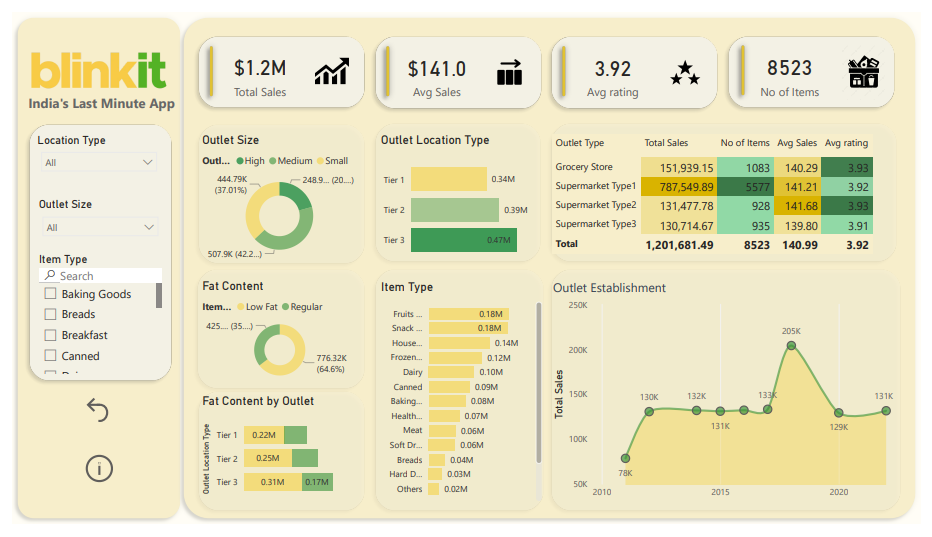

Layout of this report page (visuals, bound fields, positions):
{"tool":"powerbi","page":{"name":"Page 2","canvas":[1280,720],"ordinal":0},"visuals":[{"type":"shape","box":[0,0,245.4,720.1],"z":0},{"type":"shape","box":[234.2,0,1045.7,720.1],"z":1000},{"type":"image","box":[17.6,20.8,210.1,121.9],"z":2000},{"type":"shape","box":[16.3,150.3,215.6,375.7],"z":3000},{"type":"shape","box":[255,25.7,248.6,117.1],"z":4000,"group":"g1"},{"type":"shape","box":[1000.8,25.7,248.6,117.1],"z":4000,"group":"g4"},{"type":"shape","box":[503.6,27.3,248.6,117.1],"z":4000,"group":"g2"},{"type":"shape","box":[752.2,27.3,248.6,117.1],"z":4000,"group":"g3"},{"type":"shape","box":[752.2,354.4,506.8,354.4],"z":4000},{"type":"shape","box":[253.4,354.4,250.2,182.8],"z":5000},{"type":"shape","box":[255,526,248.6,182.8],"z":6000},{"type":"shape","box":[503.6,354.4,253.4,354.4],"z":7000},{"type":"shape","box":[752.2,149.2,502,210.1],"z":8000},{"type":"shape","box":[255,150.8,248.6,210.1],"z":9000},{"type":"shape","box":[503.6,149.2,248.6,210.1],"z":10000},{"type":"group","id":"g1","title":"Group 1","box":[255,25.7,248.6,117.1],"z":11000},{"type":"group","id":"g2","title":"Group 1","box":[503.6,27.3,248.6,117.1],"z":12000},{"type":"group","id":"g3","title":"Group 1","box":[752.2,27.3,248.6,117.1],"z":13000},{"type":"group","id":"g4","title":"Group 1","box":[1000.8,25.7,248.6,117.1],"z":14000},{"type":"shape","box":[255,40.1,51.3,86.6],"z":15000},{"type":"image","box":[1169.6,45.5,59.3,77],"z":15000,"group":"g4"},{"type":"image","box":[423.4,59.4,54.5,46.5],"z":15000,"group":"g1"},{"type":"image","box":[672,61,54.5,46.5],"z":15000,"group":"g2"},{"type":"image","box":[920.6,61,54.5,46.5],"z":15000,"group":"g3"},{"type":"shape","box":[503.6,40.1,51.3,86.6],"z":16000},{"type":"shape","box":[752.2,40.1,51.3,86.6],"z":17000},{"type":"shape","box":[1004,38.5,51.3,86.6],"z":18000},{"type":"actionButton","box":[97.8,617.5,49.7,49.7],"z":19000},{"type":"actionButton","box":[97.8,537.3,51.3,44.9],"z":20000},{"type":"card","fields":{"Values":["BlinkIT Grocery Data.Total Sales"]},"box":[275.8,44.9,147.5,83.4],"z":21000,"group":"g1"},{"type":"card","fields":{"Values":["BlinkIT Grocery Data.No of Items"]},"box":[1021.6,44.9,147.5,83.4],"z":21000,"group":"g4"},{"type":"card","fields":{"Values":["BlinkIT Grocery Data.Avg Sales"]},"box":[524.4,46.5,147.5,83.4],"z":21000,"group":"g2"},{"type":"card","fields":{"Values":["BlinkIT Grocery Data.Avg rating"]},"box":[773,46.5,147.5,83.4],"z":21000,"group":"g3"},{"type":"slicer","title":"Location Type","fields":{"Values":["BlinkIT Grocery Data.Outlet Location Type"]},"box":[31,169.9,183,62.1],"z":21000},{"type":"slicer","title":"Outlet Size","fields":{"Values":["BlinkIT Grocery Data.Outlet Size"]},"box":[32.7,261.4,183,68.6],"z":22000},{"type":"slicer","title":"Item Type","fields":{"Values":["BlinkIT Grocery Data.Item Type"]},"box":[32.7,338.1,183,174.8],"z":23000},{"type":"textbox","box":[18.1,110.4,220.8,38.1],"z":24000},{"type":"areaChart","title":"Outlet Establishment","fields":{"Category":["BlinkIT Grocery Data.Outlet Establishment Year"],"Y":["BlinkIT Grocery Data.Total Sales"]},"box":[756.9,375.4,491.9,317.2],"z":25000},{"type":"donutChart","title":"Fat Content","fields":{"Category":["BlinkIT Grocery Data.Fat Content Clean"],"Y":["BlinkIT Grocery Data.Total Sales"]},"box":[263,375.3,227.7,150.8],"z":26000},{"type":"barChart","title":"Fat Content by Outlet","fields":{"Category":["BlinkIT Grocery Data.Outlet Location Type"],"Y":["BlinkIT Grocery Data.Total Sales"],"Series":["BlinkIT Grocery Data.Fat Content Clean"]},"box":[263,537.4,227.1,155.2],"z":27000},{"type":"clusteredBarChart","title":"Item Type","fields":{"Category":["BlinkIT Grocery Data.Item Type"],"Y":["BlinkIT Grocery Data.Total Sales"]},"box":[514.6,375.7,236.9,316.9],"z":28000},{"type":"donutChart","title":"Outlet Size","fields":{"Category":["BlinkIT Grocery Data.Outlet Size"],"Y":["BlinkIT Grocery Data.Total Sales"]},"box":[263,169.9,227.1,184.6],"z":29000},{"type":"clusteredBarChart","title":"Outlet Location Type","fields":{"Category":["BlinkIT Grocery Data.Outlet Location Type"],"Y":["BlinkIT Grocery Data.Total Sales"]},"box":[514.6,169.9,241.8,191.1],"z":30000},{"type":"pivotTable","fields":{"Rows":["BlinkIT Grocery Data.Outlet Type"],"Values":["BlinkIT Grocery Data.Total Sales","BlinkIT Grocery Data.No of Items","BlinkIT Grocery Data.Avg Sales","BlinkIT Grocery Data.Avg rating"]},"box":[756.3,166.6,472.1,187.9],"z":31000}]}

Visuals, with their boxes in screenshot pixels (x1, y1, x2, y2), scaled from the page's 1280x720 canvas onto the 932x537 screenshot:
shape: Rect(0, 0, 179, 536)
shape: Rect(171, 0, 931, 536)
image: Rect(13, 16, 166, 106)
shape: Rect(12, 112, 169, 392)
shape: Rect(186, 19, 367, 107)
shape: Rect(729, 19, 910, 107)
shape: Rect(367, 20, 548, 108)
shape: Rect(548, 20, 729, 108)
shape: Rect(548, 264, 917, 529)
shape: Rect(185, 264, 367, 401)
shape: Rect(186, 392, 367, 529)
shape: Rect(367, 264, 551, 529)
shape: Rect(548, 111, 913, 268)
shape: Rect(186, 112, 367, 269)
shape: Rect(367, 111, 548, 268)
"Group 1" group: Rect(186, 19, 367, 107)
"Group 1" group: Rect(367, 20, 548, 108)
"Group 1" group: Rect(548, 20, 729, 108)
"Group 1" group: Rect(729, 19, 910, 107)
shape: Rect(186, 30, 223, 94)
image: Rect(852, 34, 895, 91)
image: Rect(308, 44, 348, 79)
image: Rect(489, 45, 529, 80)
image: Rect(670, 45, 710, 80)
shape: Rect(367, 30, 404, 94)
shape: Rect(548, 30, 585, 94)
shape: Rect(731, 29, 768, 93)
actionButton: Rect(71, 461, 107, 498)
actionButton: Rect(71, 401, 109, 434)
card - BlinkIT Grocery Data.Total Sales: Rect(201, 33, 308, 96)
card - BlinkIT Grocery Data.No of Items: Rect(744, 33, 851, 96)
card - BlinkIT Grocery Data.Avg Sales: Rect(382, 35, 489, 97)
card - BlinkIT Grocery Data.Avg rating: Rect(563, 35, 670, 97)
"Location Type" slicer: Rect(23, 127, 156, 173)
"Outlet Size" slicer: Rect(24, 195, 157, 246)
"Item Type" slicer: Rect(24, 252, 157, 383)
textbox: Rect(13, 82, 174, 111)
"Outlet Establishment" areaChart: Rect(551, 280, 909, 517)
"Fat Content" donutChart: Rect(191, 280, 357, 392)
"Fat Content by Outlet" barChart: Rect(191, 401, 357, 517)
"Item Type" clusteredBarChart: Rect(375, 280, 547, 517)
"Outlet Size" donutChart: Rect(191, 127, 357, 264)
"Outlet Location Type" clusteredBarChart: Rect(375, 127, 551, 269)
pivotTable - BlinkIT Grocery Data.Outlet Type x BlinkIT Grocery Data.Total Sales: Rect(551, 124, 894, 264)
